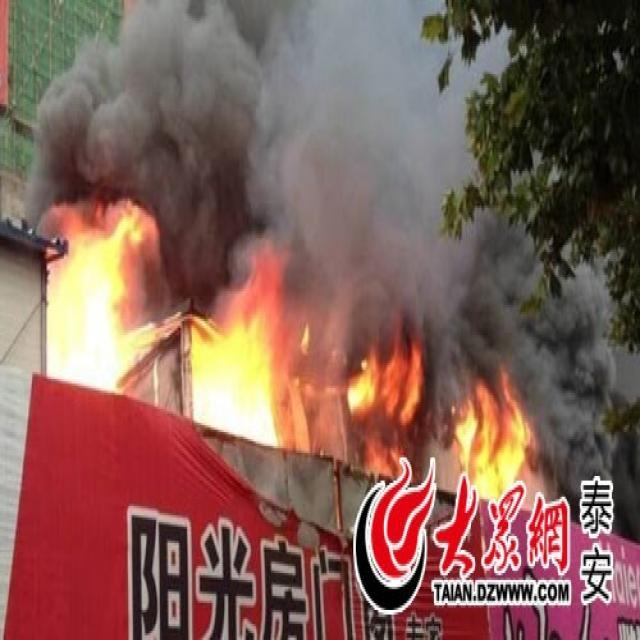Smoke: (22, 0, 640, 545)
